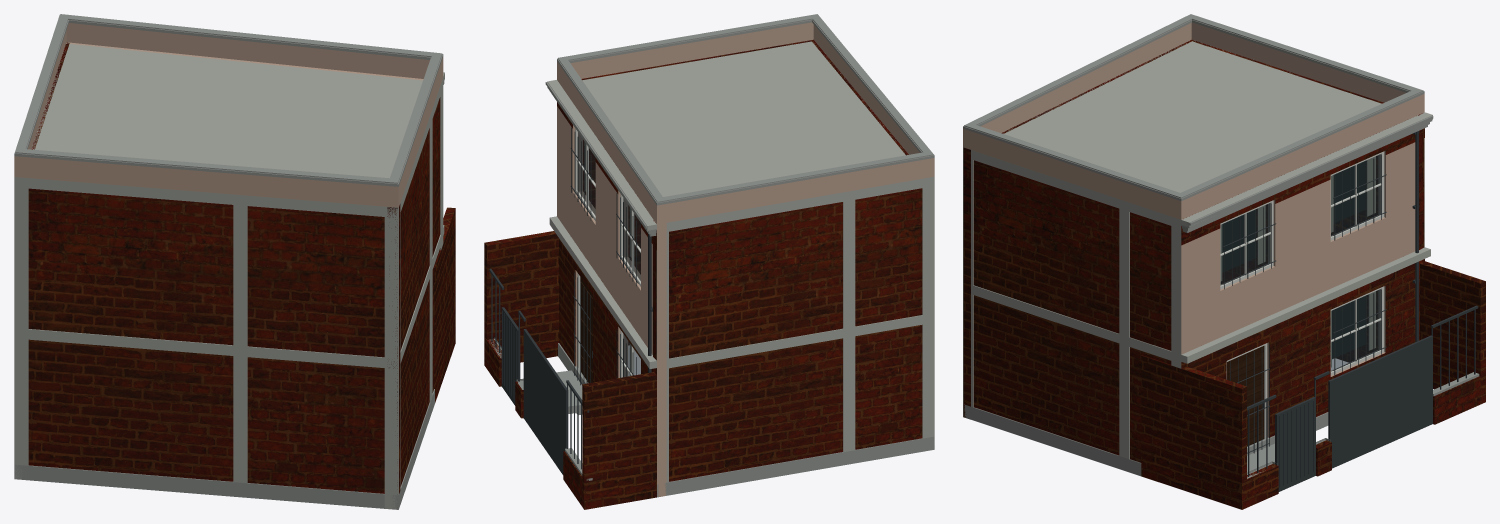
The model's file is building.glb.
3 renders of one model, left to right at view 1: azimuth 30°, elevation 25°; view 2: azimuth 150°, elevation 25°; view 3: azimuth 270°, elevation 25°, orthographic. The views are drawn at different scales.
Visible parts, largest first — view 1: main:0/edge0/z0/main:0/edge0/z0/wall_0_0/core0, roof/main:0/roof_slab#0001, roof/main:0/parapet#0001, main:0/edge1/z0/main:0/edge1/z0/wall_0_0/core0, roof/main:0/parapet_cap#0002, main:0/edge0/z0/plinth#0001, main:0/edge0/z0/main:0/edge0/z0/beam_0_0/core0, main:0/edge0/z0/main:0/edge0/z0/beam_1_0/core0, roof/main:0/parapet_cap#0001, site/fence/0/wall#0001, main:0/edge0/z0/main:0/edge0/z0/column_0_0, main:0/edge0/z0/main:0/edge0/z0/column_1_1/core0 (+12 smaller); view 2: main:0/edge3/z0/main:0/edge3/z0/wall_0_0, roof/main:0/roof_slab#0001, roof/main:0/parapet#0001, site/fence/2/wall#0001, main:0/edge2/z0/main:0/edge2/z0/wall_0_0/core0, site/fence/0/wall#0001, roof/main:0/parapet_cap#0002, site/fence/1/garage_door#0001, main:0/edge3/z0/plinth#0001, main:0/edge3/z0/main:0/edge3/z0/beam_0_0, main:0/edge2/z0/main:0/edge2/z0/wall_0_0/clip1, roof/main:0/parapet_cap#0001 (+19 smaller); view 3: main:0/edge1/z0/main:0/edge1/z0/wall_0_0/core0, roof/main:0/roof_slab#0001, main:0/edge2/z0/main:0/edge2/z0/wall_0_0/core0, roof/main:0/parapet#0001, site/fence/0/wall#0001, site/fence/1/garage_door#0001, site/fence/2/wall#0001, roof/main:0/parapet_cap#0002, main:0/edge2/z0/main:0/edge2/z0/coating_0_0_0/clip5, roof/main:0/parapet_cap#0001, main:0/edge2/z0/floor_slab#0001, main:0/edge2/z0/opening_u1.10_v3.90/glazing#0001 (+32 smaller).
Part boxes in pixels (x1,y1,x2,y2): main:0/edge0/z0/main:0/edge0/z0/wall_0_0/core0: [28, 188, 384, 493]; roof/main:0/roof_slab#0001: [14, 43, 443, 214]; roof/main:0/parapet#0001: [14, 23, 443, 207]; main:0/edge1/z0/main:0/edge1/z0/wall_0_0/core0: [400, 97, 440, 486]; roof/main:0/parapet_cap#0002: [15, 14, 442, 183]; main:0/edge0/z0/plinth#0001: [14, 464, 398, 509]; main:0/edge0/z0/main:0/edge0/z0/beam_0_0/core0: [14, 328, 398, 369]; main:0/edge0/z0/main:0/edge0/z0/beam_1_0/core0: [14, 177, 398, 217]; roof/main:0/parapet_cap#0001: [14, 15, 443, 186]; site/fence/0/wall#0001: [434, 207, 455, 402]; main:0/edge0/z0/main:0/edge0/z0/column_0_0: [14, 187, 28, 329]; main:0/edge0/z0/main:0/edge0/z0/column_1_1/core0: [384, 217, 398, 358]; main:0/edge3/z0/main:0/edge3/z0/wall_0_0: [653, 188, 922, 481]; roof/main:0/roof_slab#0001: [582, 41, 934, 228]; roof/main:0/parapet#0001: [557, 22, 934, 224]; site/fence/2/wall#0001: [582, 372, 656, 509]; main:0/edge2/z0/main:0/edge2/z0/wall_0_0/core0: [557, 106, 652, 377]; site/fence/0/wall#0001: [484, 231, 558, 362]; roof/main:0/parapet_cap#0002: [558, 14, 933, 202]; site/fence/1/garage_door#0001: [523, 329, 568, 474]; main:0/edge3/z0/plinth#0001: [665, 436, 934, 495]; main:0/edge3/z0/main:0/edge3/z0/beam_0_0: [666, 313, 934, 368]; main:0/edge2/z0/main:0/edge2/z0/wall_0_0/clip1: [657, 223, 666, 497]; roof/main:0/parapet_cap#0001: [557, 19, 934, 205]; main:0/edge1/z0/main:0/edge1/z0/wall_0_0/core0: [973, 160, 1171, 462]; roof/main:0/roof_slab#0001: [975, 40, 1381, 225]; main:0/edge2/z0/main:0/edge2/z0/wall_0_0/core0: [1181, 142, 1415, 376]; roof/main:0/parapet#0001: [963, 22, 1424, 219]; site/fence/0/wall#0001: [1141, 355, 1246, 509]; site/fence/1/garage_door#0001: [1328, 335, 1432, 468]; site/fence/2/wall#0001: [1420, 261, 1485, 404]; roof/main:0/parapet_cap#0002: [964, 14, 1423, 198]; main:0/edge2/z0/main:0/edge2/z0/coating_0_0_0/clip5: [1269, 315, 1330, 403]; roof/main:0/parapet_cap#0001: [963, 20, 1424, 201]; main:0/edge2/z0/floor_slab#0001: [1180, 247, 1430, 363]; main:0/edge2/z0/opening_u1.10_v3.90/glazing#0001: [1220, 203, 1270, 284].
Size of the model in its own units: 9.44 by 6.39 by 10.19.
Materials: 10 (2 with a texture image).
